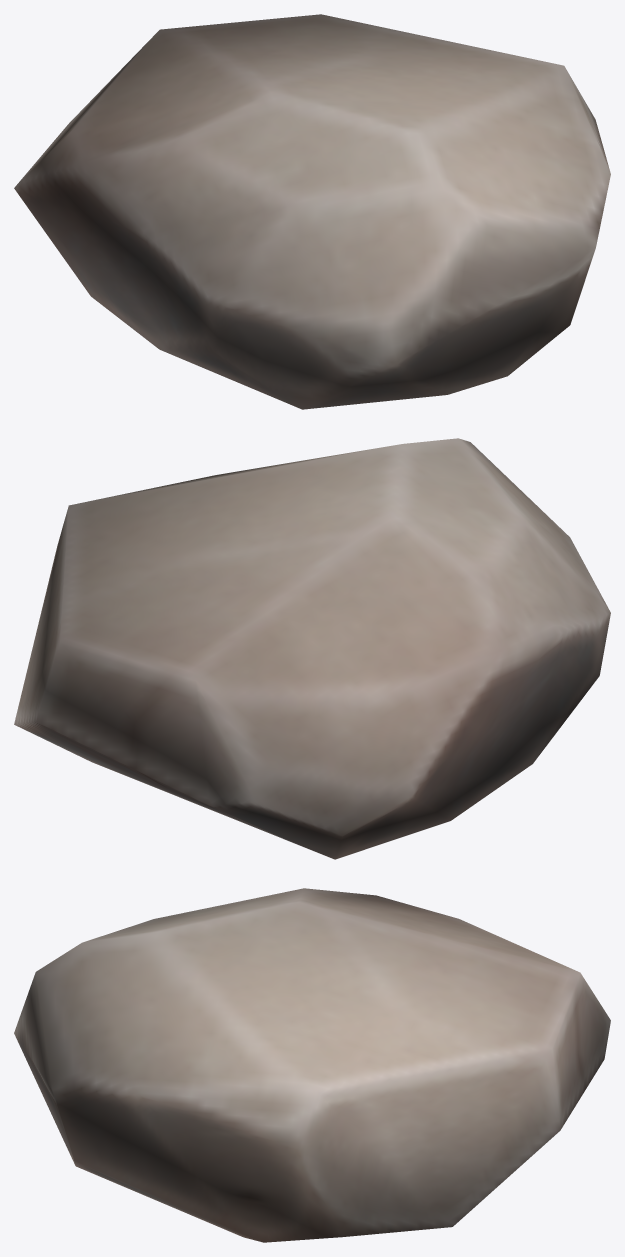
File: SM_Gem_Iron_Piece_001.fbx
3 renders of one model, top to bottom at view 1: azimuth 30°, elevation 25°; view 2: azimuth 150°, elevation 25°; view 3: azimuth 270°, elevation 25°, orthographic. The views are drawn at different scales.
Parts seen in each view (by area): view 1: SM_Gem_Iron_Piece_001; view 2: SM_Gem_Iron_Piece_001; view 3: SM_Gem_Iron_Piece_001.
Part boxes in pixels (<box>): SM_Gem_Iron_Piece_001: <box>14,14,610,409</box>; SM_Gem_Iron_Piece_001: <box>14,438,610,859</box>; SM_Gem_Iron_Piece_001: <box>14,888,610,1242</box>.
Size of the model in its own units: 17.46 by 8.29 by 20.5.
